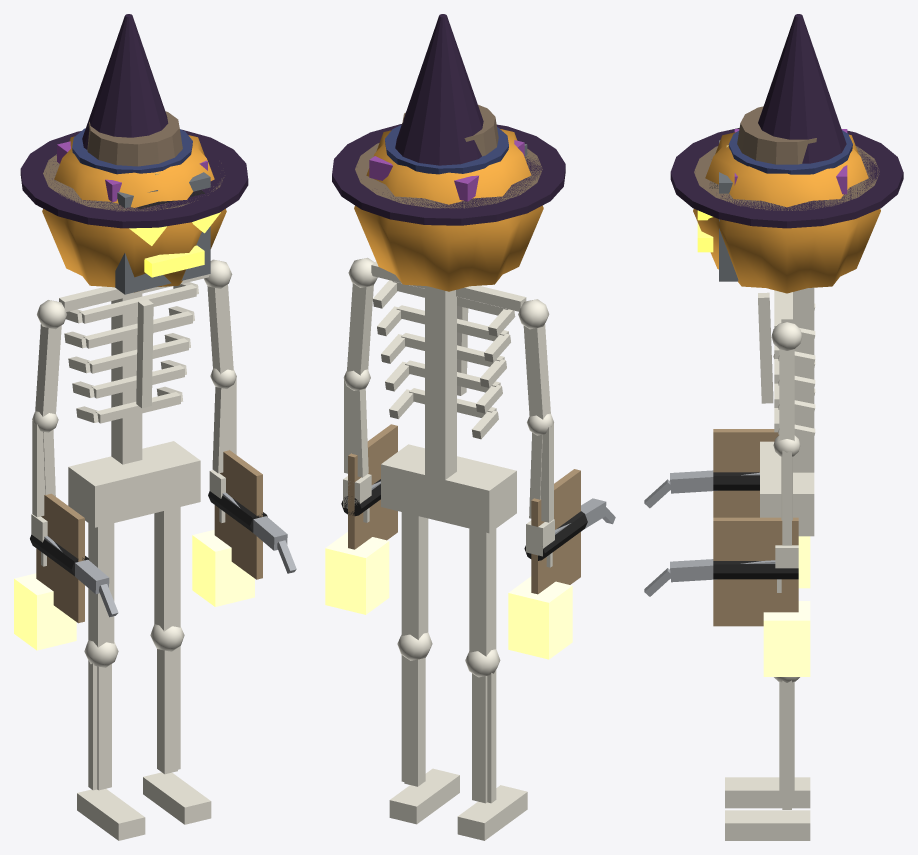
File: skeleton.glb
3 renders of one model, left to right at view 1: azimuth 30°, elevation 25°; view 2: azimuth 150°, elevation 25°; view 3: azimuth 270°, elevation 25°, orthographic. The views are drawn at different scales.
Visible parts, largest first — view 1: PumpkinHead, Ribcage, Hips, Witch_Brim, Witch_Cone, Clipboard.001, Clipboard, Lantern_Glass, Lantern_Glass.001, UpperLeg_L, LowerLeg_R, Torso (+22 smaller); view 2: PumpkinHead, Ribcage, Witch_Brim, Witch_Cone, Hips, Torso, Lantern_Glass.001, Lantern_Glass, UpperLeg_R, Clipboard.001, UpperLeg_L, Clipboard (+20 smaller); view 3: PumpkinHead, Witch_Brim, Witch_Cone, Clipboard, Ribcage, Clipboard.001, Lantern_Glass, Hips, Foot_L, Torso, Foot_R, Fedora_Crown (+13 smaller).
Boxes of the visible parts, x1,y1,x2,y2 form: PumpkinHead: (42,135,226,292); Ribcage: (59,274,209,423); Hips: (68,441,200,527); Witch_Brim: (20,129,248,228); Witch_Cone: (82,14,168,149); Clipboard.001: (36,493,84,623); Clipboard: (214,450,262,579); Lantern_Glass: (192,529,254,606); Lantern_Glass.001: (14,573,76,650); UpperLeg_L: (154,507,180,631); LowerLeg_R: (88,660,111,790); Torso: (111,293,142,464); PumpkinHead: (354,129,543,291); Ribcage: (371,261,526,439); Witch_Brim: (332,124,565,225); Witch_Cone: (395,14,483,165); Hips: (381,444,516,533); Torso: (425,286,456,487); Lantern_Glass.001: (508,576,572,659); Lantern_Glass: (325,532,389,614); UpperLeg_R: (469,528,496,656); Clipboard.001: (531,469,580,594); UpperLeg_L: (401,512,428,639); Clipboard: (348,424,397,549); PumpkinHead: (693,132,880,293); Witch_Brim: (670,128,903,228); Witch_Cone: (758,14,846,163); Clipboard: (713,517,798,626); Ribcage: (758,290,815,441); Clipboard.001: (713,429,778,517); Lantern_Glass: (763,601,810,676); Hips: (760,441,814,536); Foot_L: (725,810,810,840); Torso: (793,287,814,472); Foot_R: (725,777,810,808); Fedora_Crown: (737,106,816,164).
Bounding box in the file's own units: 0.66 × 2.28 × 0.6671.
